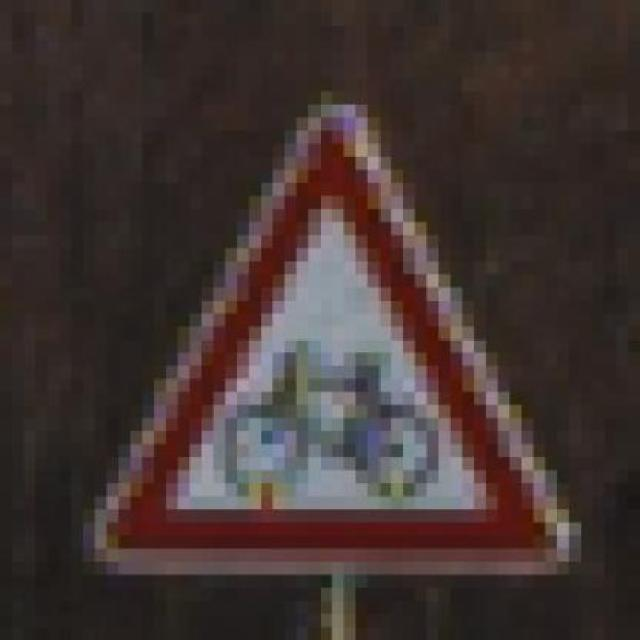CYCLE ROUTE AHEAD WARNING: (83, 65, 605, 601)
